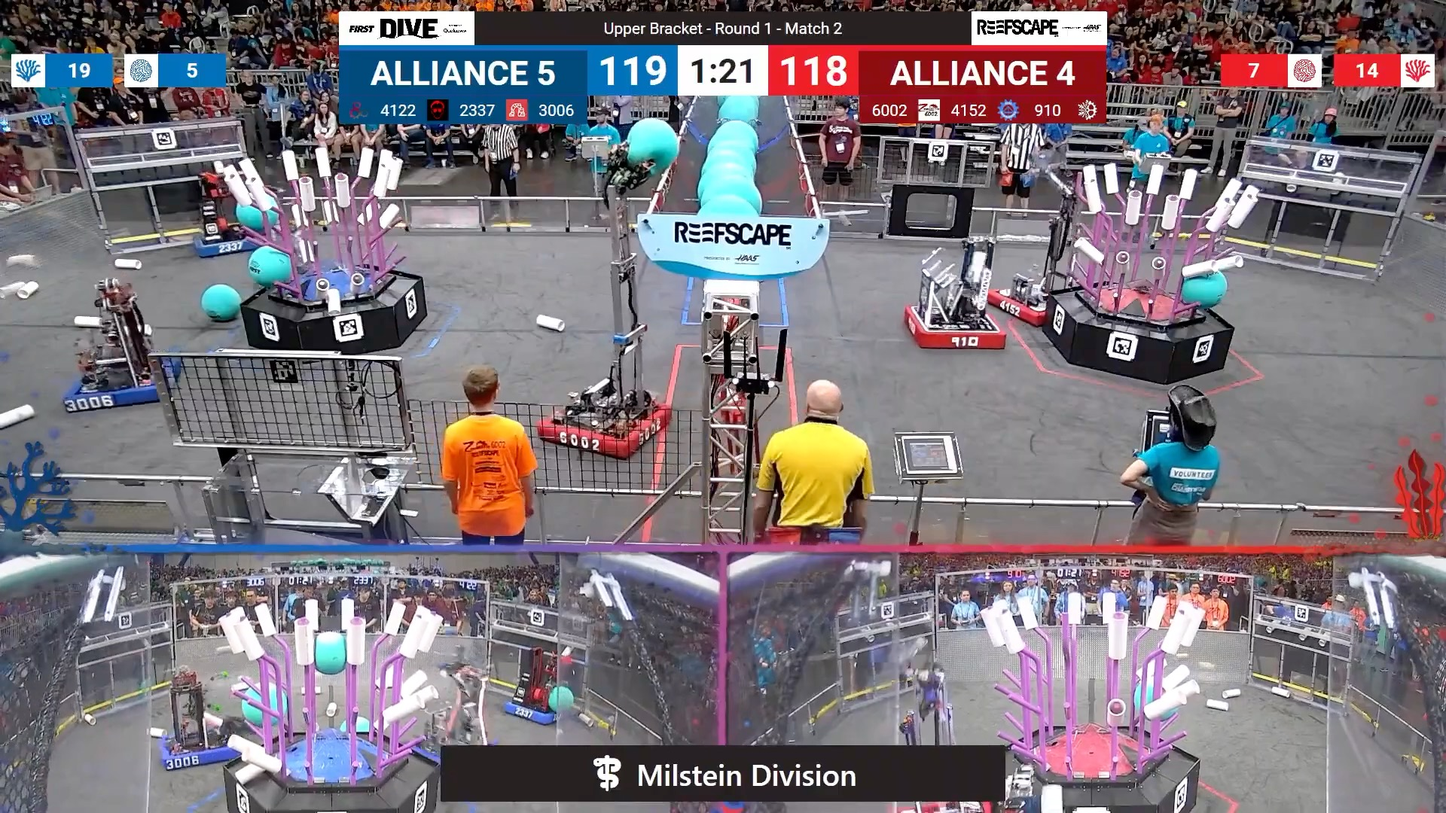bumpers: (529, 397, 671, 458), (57, 352, 184, 415), (900, 302, 1017, 358), (151, 723, 247, 776), (187, 223, 281, 262), (498, 694, 566, 728)
